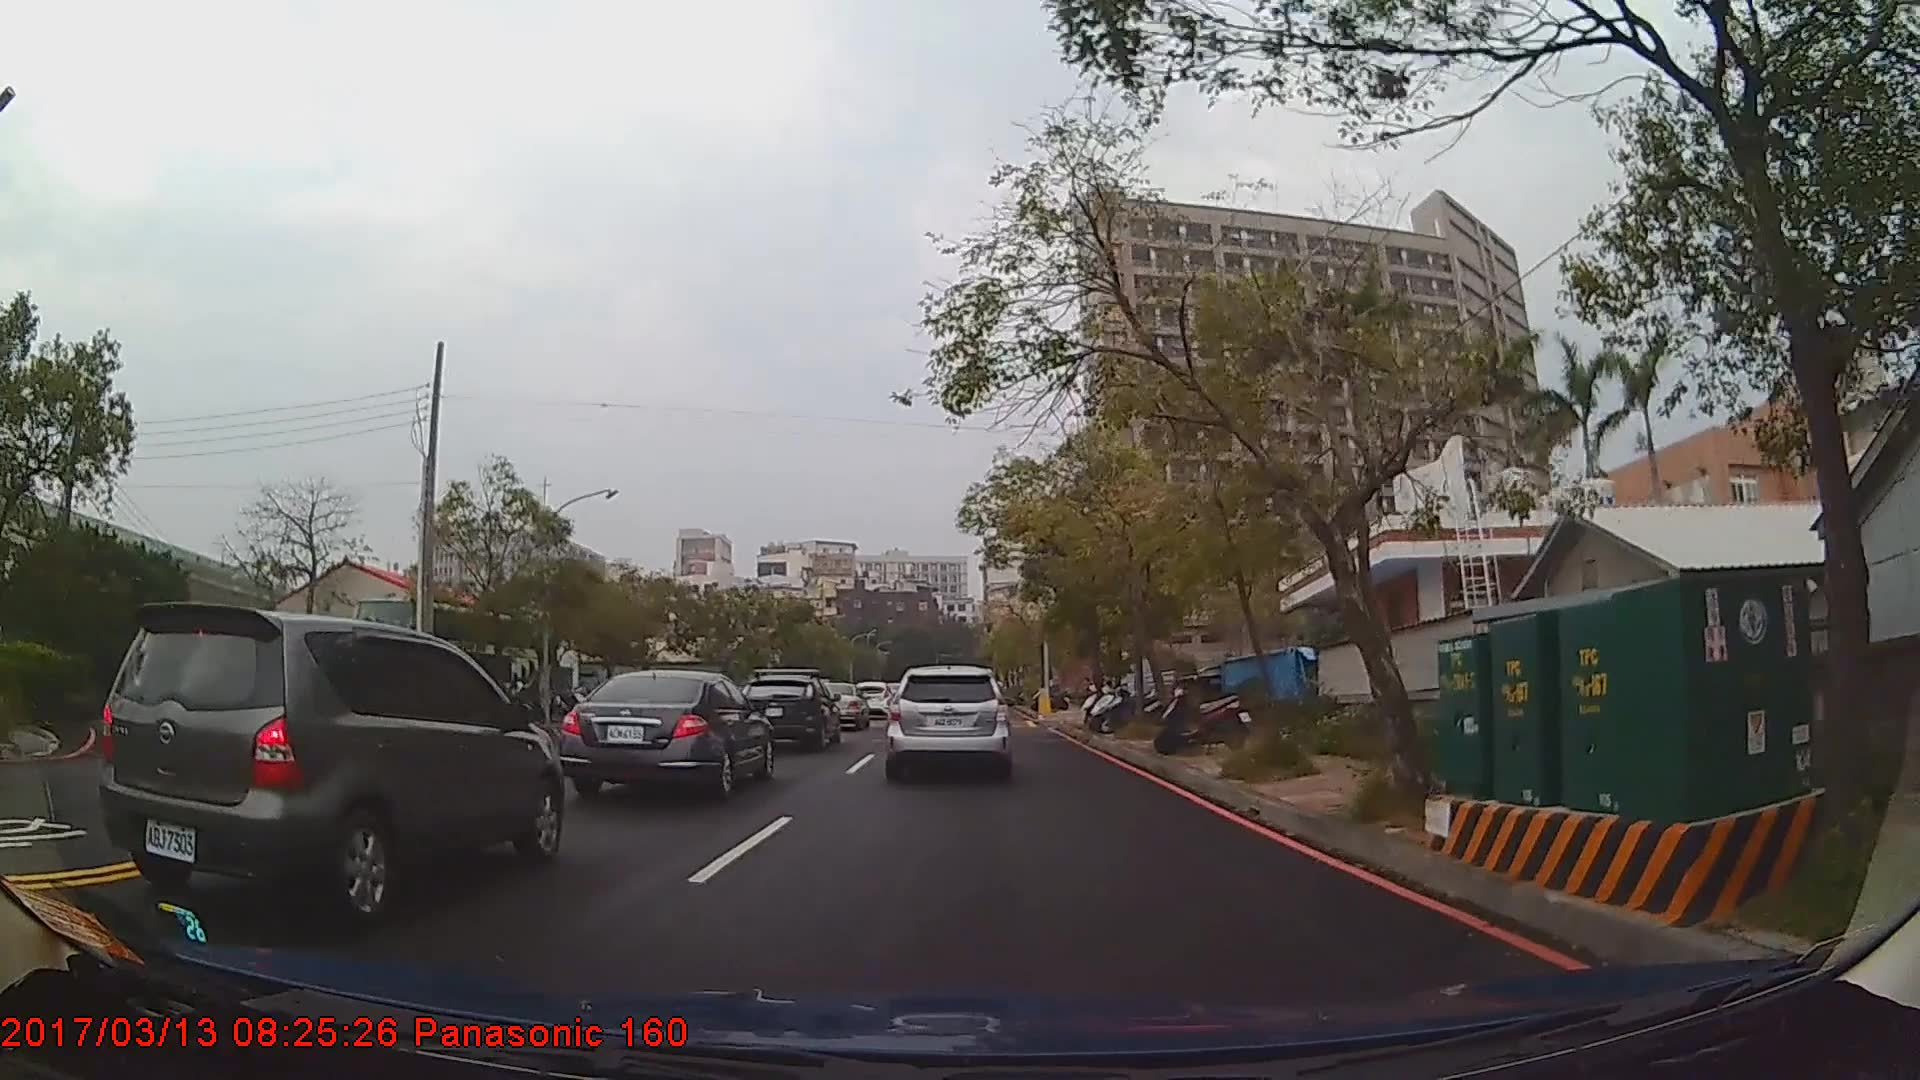vehicle: (95, 599, 563, 931), (559, 669, 775, 803), (348, 597, 542, 713), (884, 666, 1013, 782), (735, 671, 841, 750), (814, 680, 868, 731), (848, 678, 894, 717)
